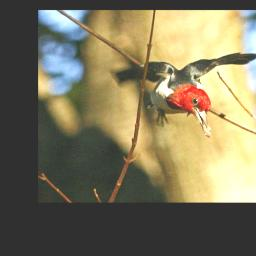Woodpecker: (112, 45, 256, 140)
